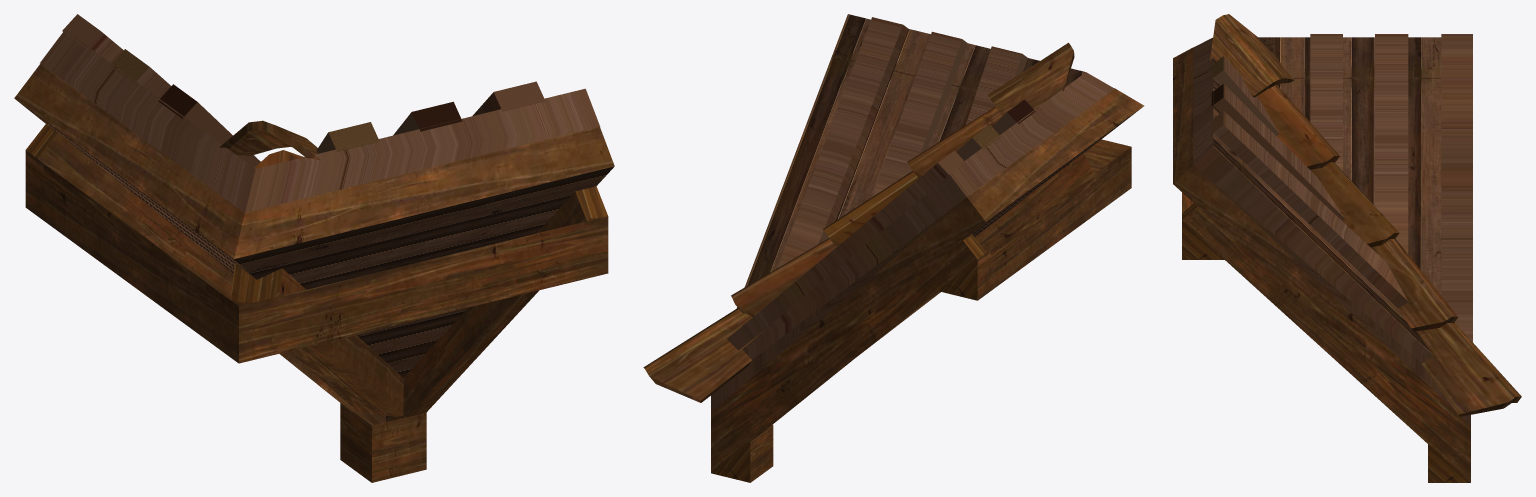
3 views of the same model, side by side, from view 1: azimuth 30°, elevation 25°; view 2: azimuth 150°, elevation 25°; view 3: azimuth 270°, elevation 25° (orthographic). The views are drawn at different scales.
Visible parts, largest first — view 1: SM_BB_T2_Roof_Med_Valley_LOD0; view 2: SM_BB_T2_Roof_Med_Valley_LOD0; view 3: SM_BB_T2_Roof_Med_Valley_LOD0.
Part boxes in pixels (x1=…): SM_BB_T2_Roof_Med_Valley_LOD0: x1=14, y1=14, x2=614, y2=482; SM_BB_T2_Roof_Med_Valley_LOD0: x1=643, y1=14, x2=1144, y2=482; SM_BB_T2_Roof_Med_Valley_LOD0: x1=1173, y1=14, x2=1521, y2=482.
Bounding box in the file's own units: 2.04 × 2.34 × 2.03.
2 materials, 2 textured.
